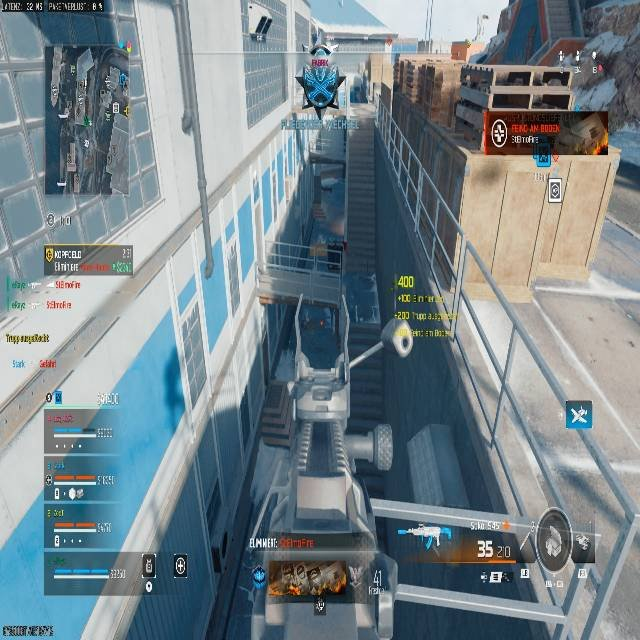head: (308, 44, 329, 67), (310, 44, 331, 57)
player: (296, 44, 344, 122)
